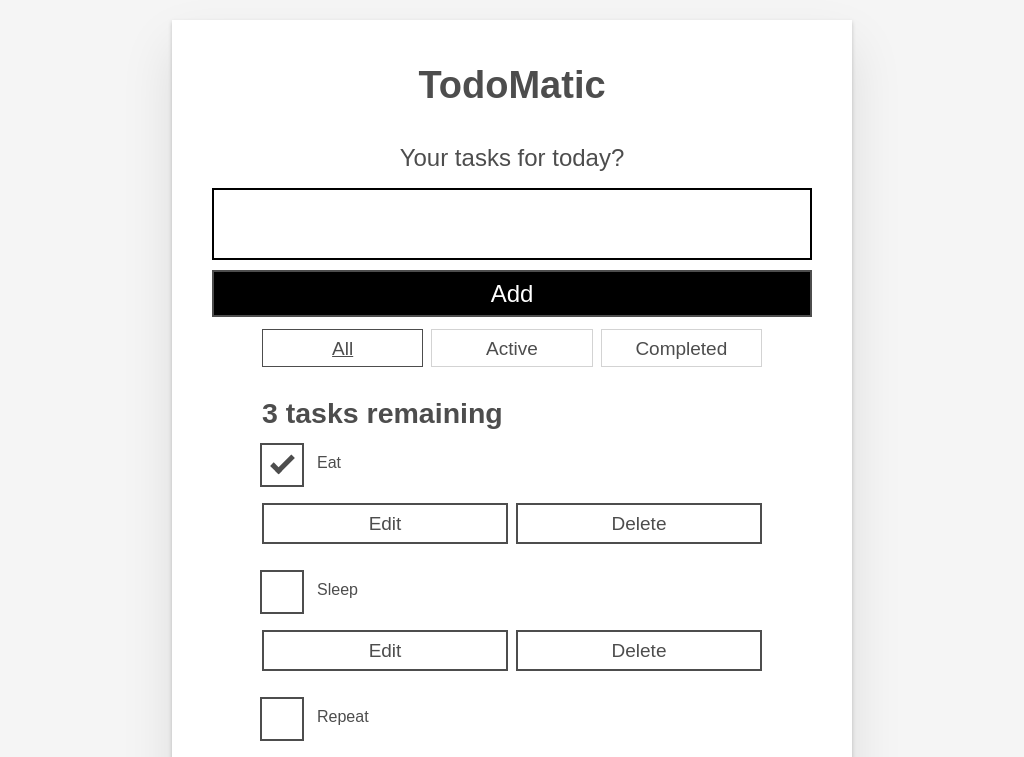
it: Editing a task › Editing the content of an existing class
This screenshot has width=1024, height=757.
Click the button with test id "editbutton-todo-1": (385, 651) left=262, top=630, right=508, bottom=671
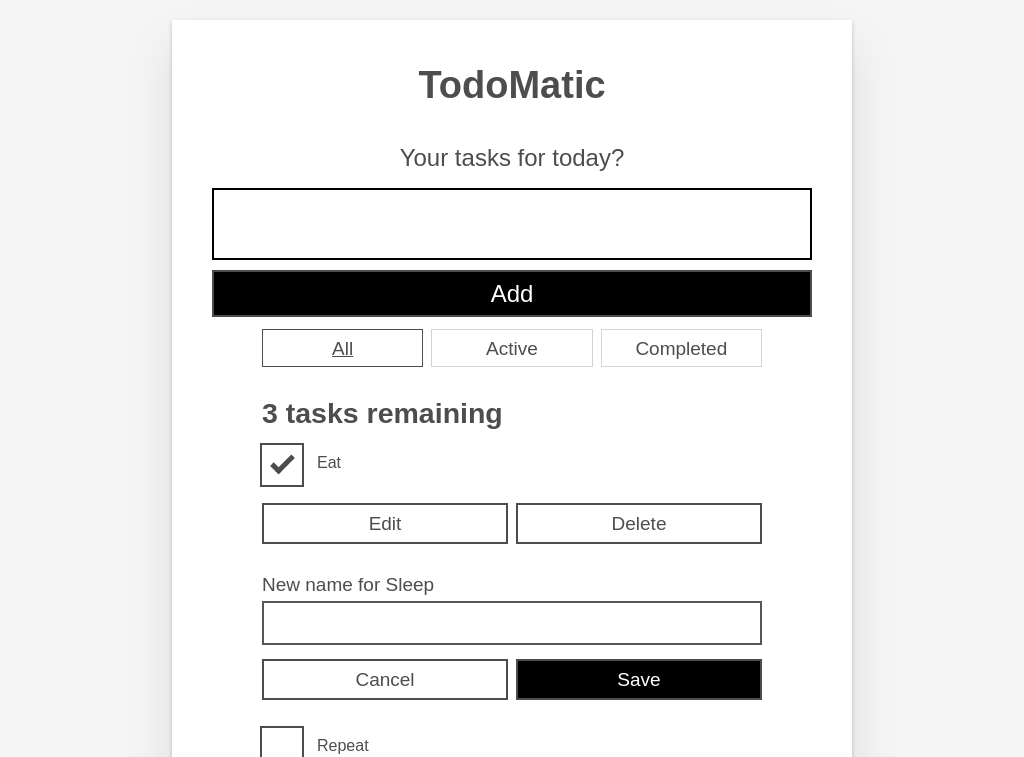
In the field with test id "edittasktext-todo-1": (512, 623) left=262, top=601, right=762, bottom=645, type "Edited task"
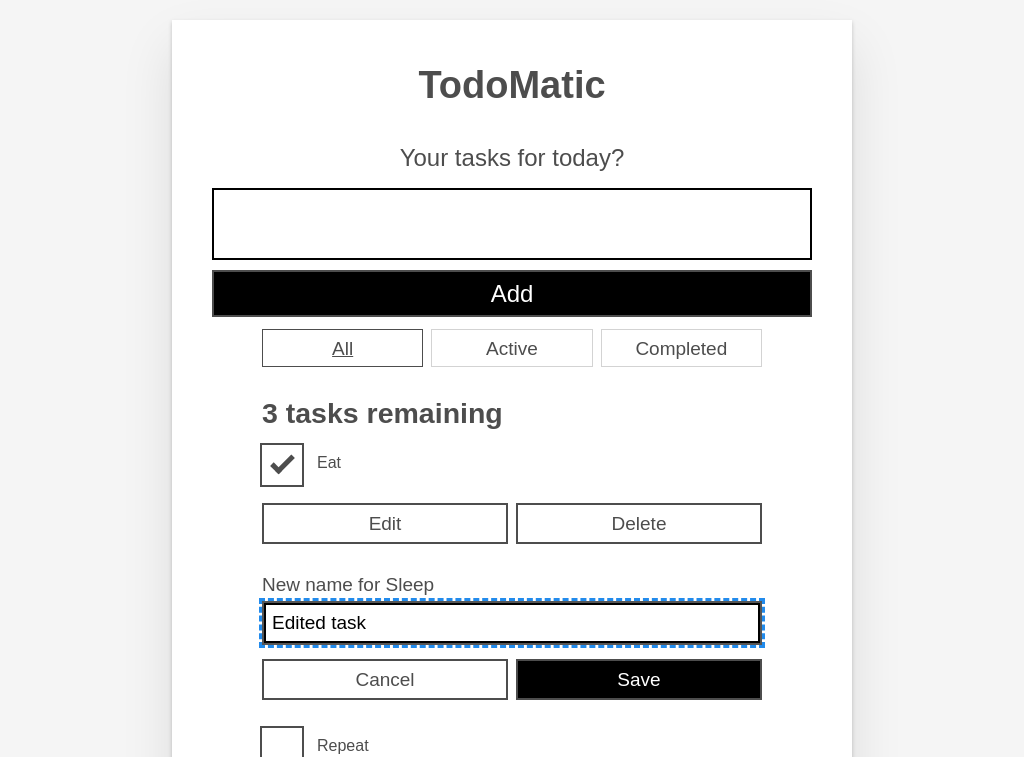
Click the button with id "Save": (639, 680) left=516, top=659, right=762, bottom=700
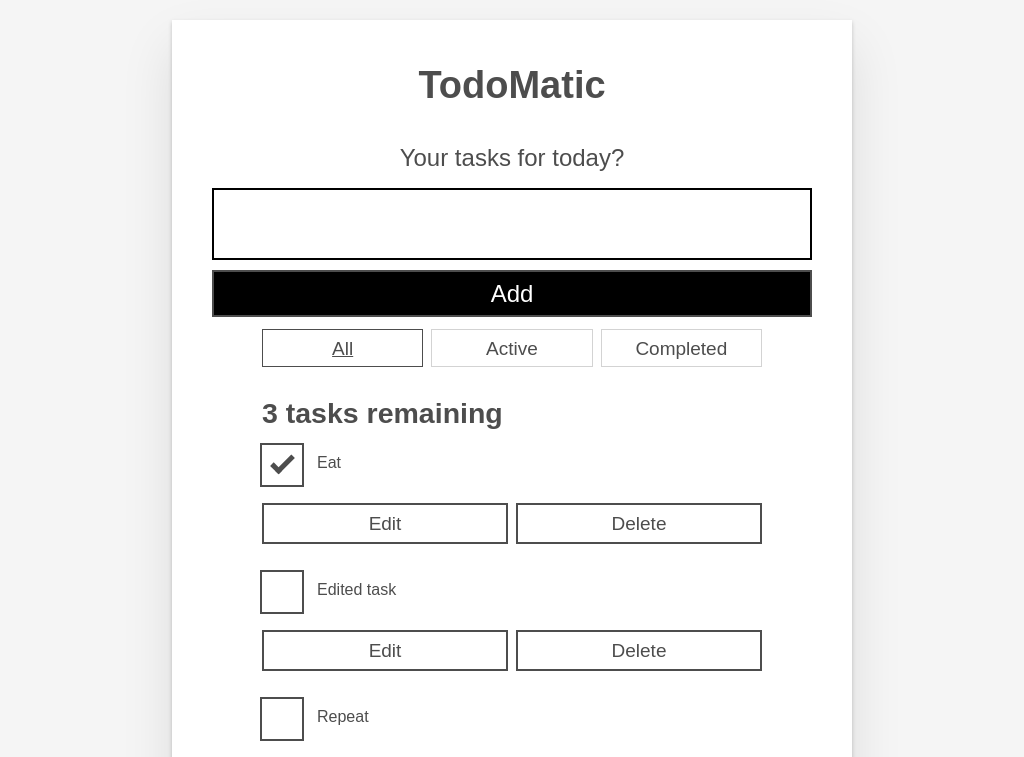
Result: the checkbox "Edited task" is shown at left=302, top=572, right=411, bottom=605
